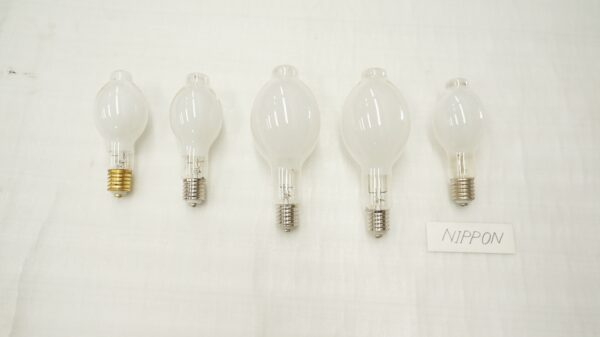Light_bulb: (248, 63, 328, 235), (337, 67, 411, 246), (168, 71, 232, 212), (426, 74, 489, 208), (96, 71, 150, 203)
